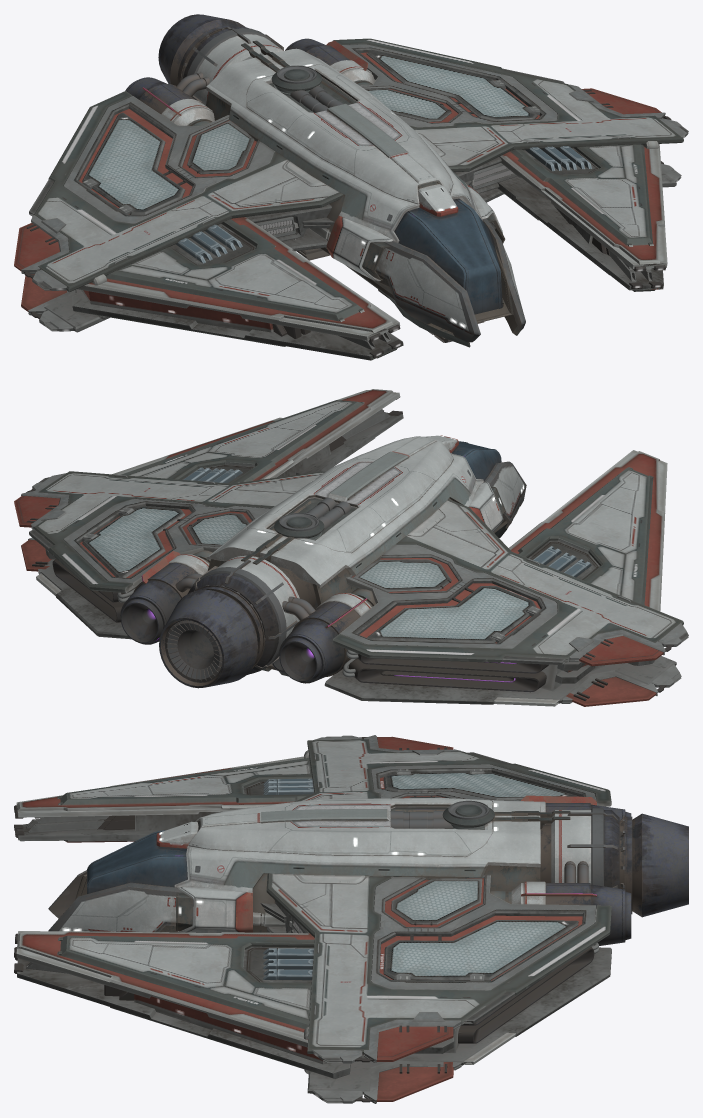
File: spaceship.gltf
3 renders of one model, top to bottom at view 1: azimuth 30°, elevation 25°; view 2: azimuth 150°, elevation 25°; view 3: azimuth 270°, elevation 25°, orthographic. The views are drawn at different scales.
Visible parts, largest first — view 1: Cube.003, Cube.010; view 2: Cube.003, Cube.010; view 3: Cube.003, Cube.010.
Boxes of the visible parts, x1=… form: Cube.003: x1=14, y1=38, x2=688, y2=360; Cube.010: x1=125, y1=14, x2=525, y2=347; Cube.003: x1=14, y1=389, x2=688, y2=706; Cube.010: x1=120, y1=435, x2=526, y2=688; Cube.003: x1=14, y1=735, x2=611, y2=1103; Cube.010: x1=48, y1=795, x2=688, y2=945.
Bounding box in the file's own units: 12.27 × 2.79 × 10.78.
Materials: 2 (2 with a texture image).
